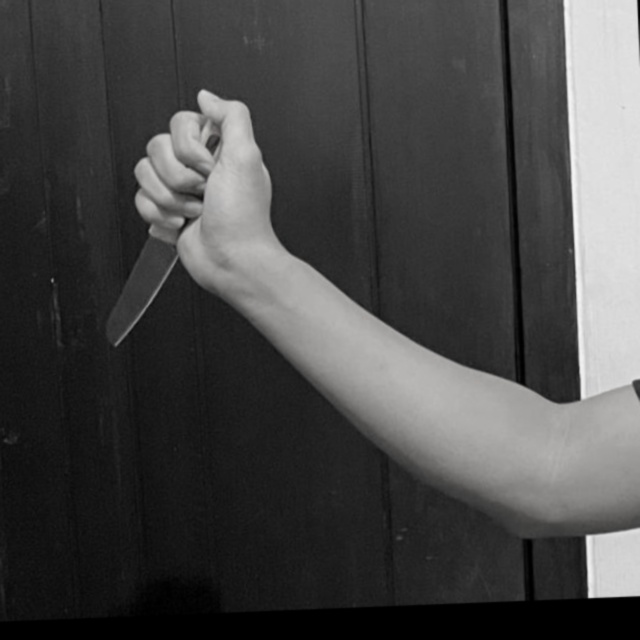Sharp-Object: (92, 104, 250, 350)
